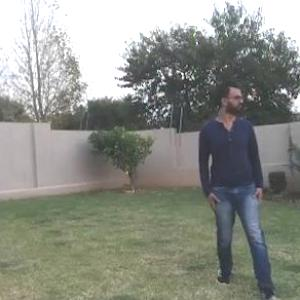follow: (197, 60, 269, 282)
